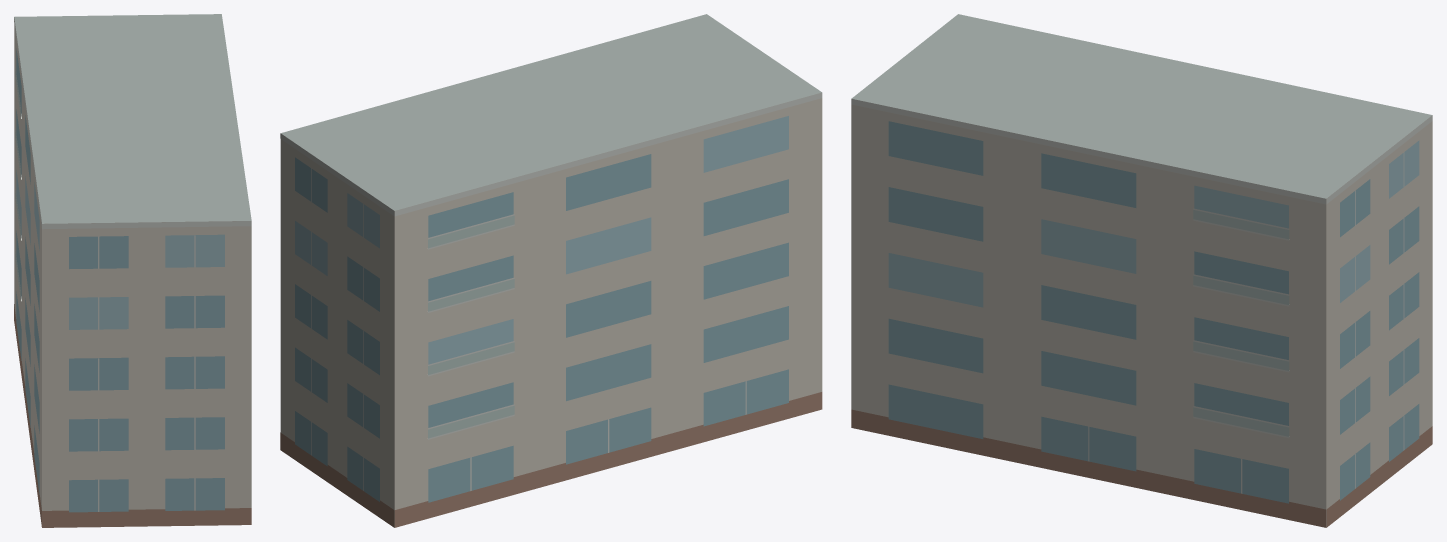
Rendered from survey-upis-32524604.glb.
The picture shows the model from 3 angles, left to right: view 1: azimuth 30°, elevation 25°; view 2: azimuth 150°, elevation 25°; view 3: azimuth 270°, elevation 25°; orthographic projection. The views are drawn at different scales.
Visible parts, largest first — view 1: survey-upis-32524604.tmp; view 2: survey-upis-32524604.tmp; view 3: survey-upis-32524604.tmp.
Part boxes in pixels (bbox=[...]): survey-upis-32524604.tmp: bbox=[14, 14, 251, 527]; survey-upis-32524604.tmp: bbox=[280, 14, 822, 527]; survey-upis-32524604.tmp: bbox=[851, 14, 1432, 527].
Bounding box in the file's own units: 16.68 × 13.85 × 22.18.
